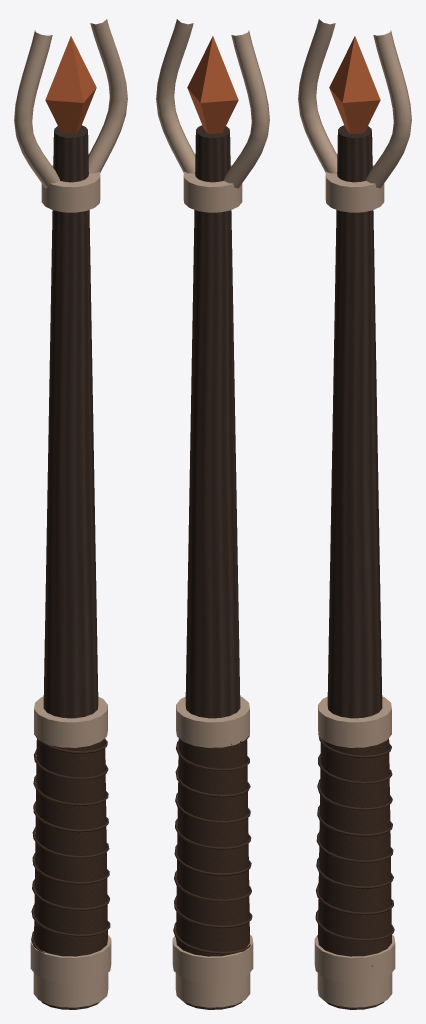
File: corealm_wand_4.glb
3 renders of one model, left to right at view 1: azimuth 30°, elevation 25°; view 2: azimuth 150°, elevation 25°; view 3: azimuth 330°, elevation 25°, orthographic.
Parts seen in each view (by area): view 1: corealm-weapon-wood, corealm-weapon-leather, corealm-weapon-metal, corealm-weapon-gem; view 2: corealm-weapon-wood, corealm-weapon-leather, corealm-weapon-metal, corealm-weapon-gem; view 3: corealm-weapon-wood, corealm-weapon-leather, corealm-weapon-metal, corealm-weapon-gem.
Part boxes in pixels (box(x1,y1,x2,y2)): corealm-weapon-wood: box(41, 125, 99, 1009); corealm-weapon-leather: box(31, 736, 110, 956); corealm-weapon-metal: box(14, 19, 127, 1007); corealm-weapon-gem: box(45, 36, 96, 133); corealm-weapon-wood: box(184, 125, 242, 1009); corealm-weapon-leather: box(173, 730, 252, 956); corealm-weapon-metal: box(156, 19, 269, 1007); corealm-weapon-gem: box(187, 36, 238, 133); corealm-weapon-wood: box(326, 125, 384, 1009); corealm-weapon-leather: box(315, 734, 394, 966); corealm-weapon-metal: box(298, 19, 411, 1007); corealm-weapon-gem: box(329, 36, 380, 133).
Bounding box in the file's own units: 0.0826 × 0.6854 × 0.052.
4 materials, 2 textured.
